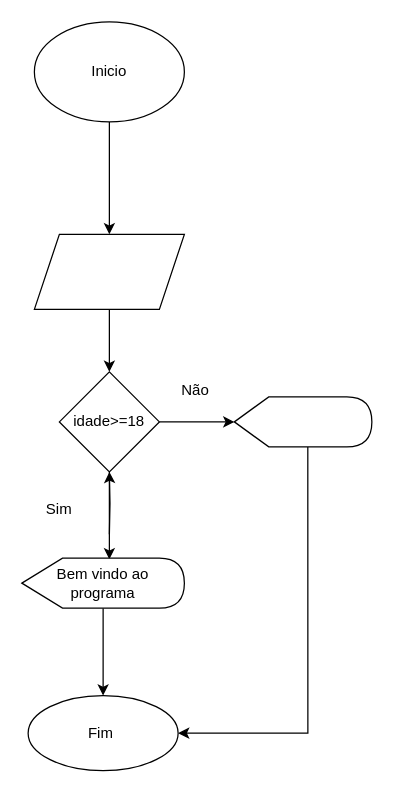
Some shapes in this 394 by 793 pixel diagram are drawn without their labels. The shapes that lost their labels are listed below. From the top down, each one's centre as x and y in pixels, then its label:
point (108, 271): Digite a idade?
point (302, 421): Não pode acessar.
